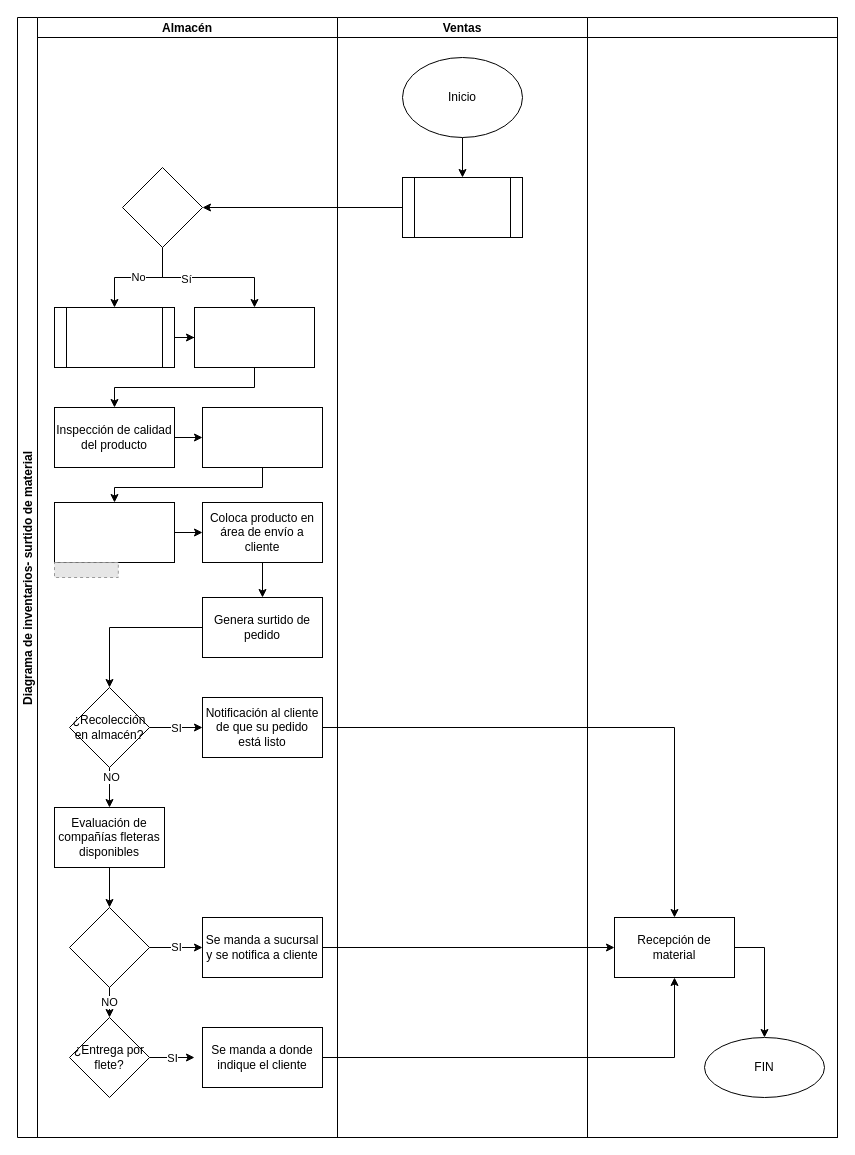
Image size: 855x1155. Some labels were removed from this diagram. Grey dashed boxes stand in for pictures. The box of each missing label's shape, as (x1, y1, x2, y2) in pixels:
Cliente: (586, 16, 838, 1138)
Colecta material solicitado: (194, 306, 314, 368)
Empaquetado y embalaje: (202, 406, 322, 468)
Proceso de recibo de material (compras): (54, 306, 174, 368)
Proceso de ventas: (402, 176, 522, 238)
Registra disminución de inventario: (54, 502, 174, 562)
¿Entrega por en mostrador?: (68, 906, 150, 988)
¿Producto en existencia?: (122, 166, 202, 248)
